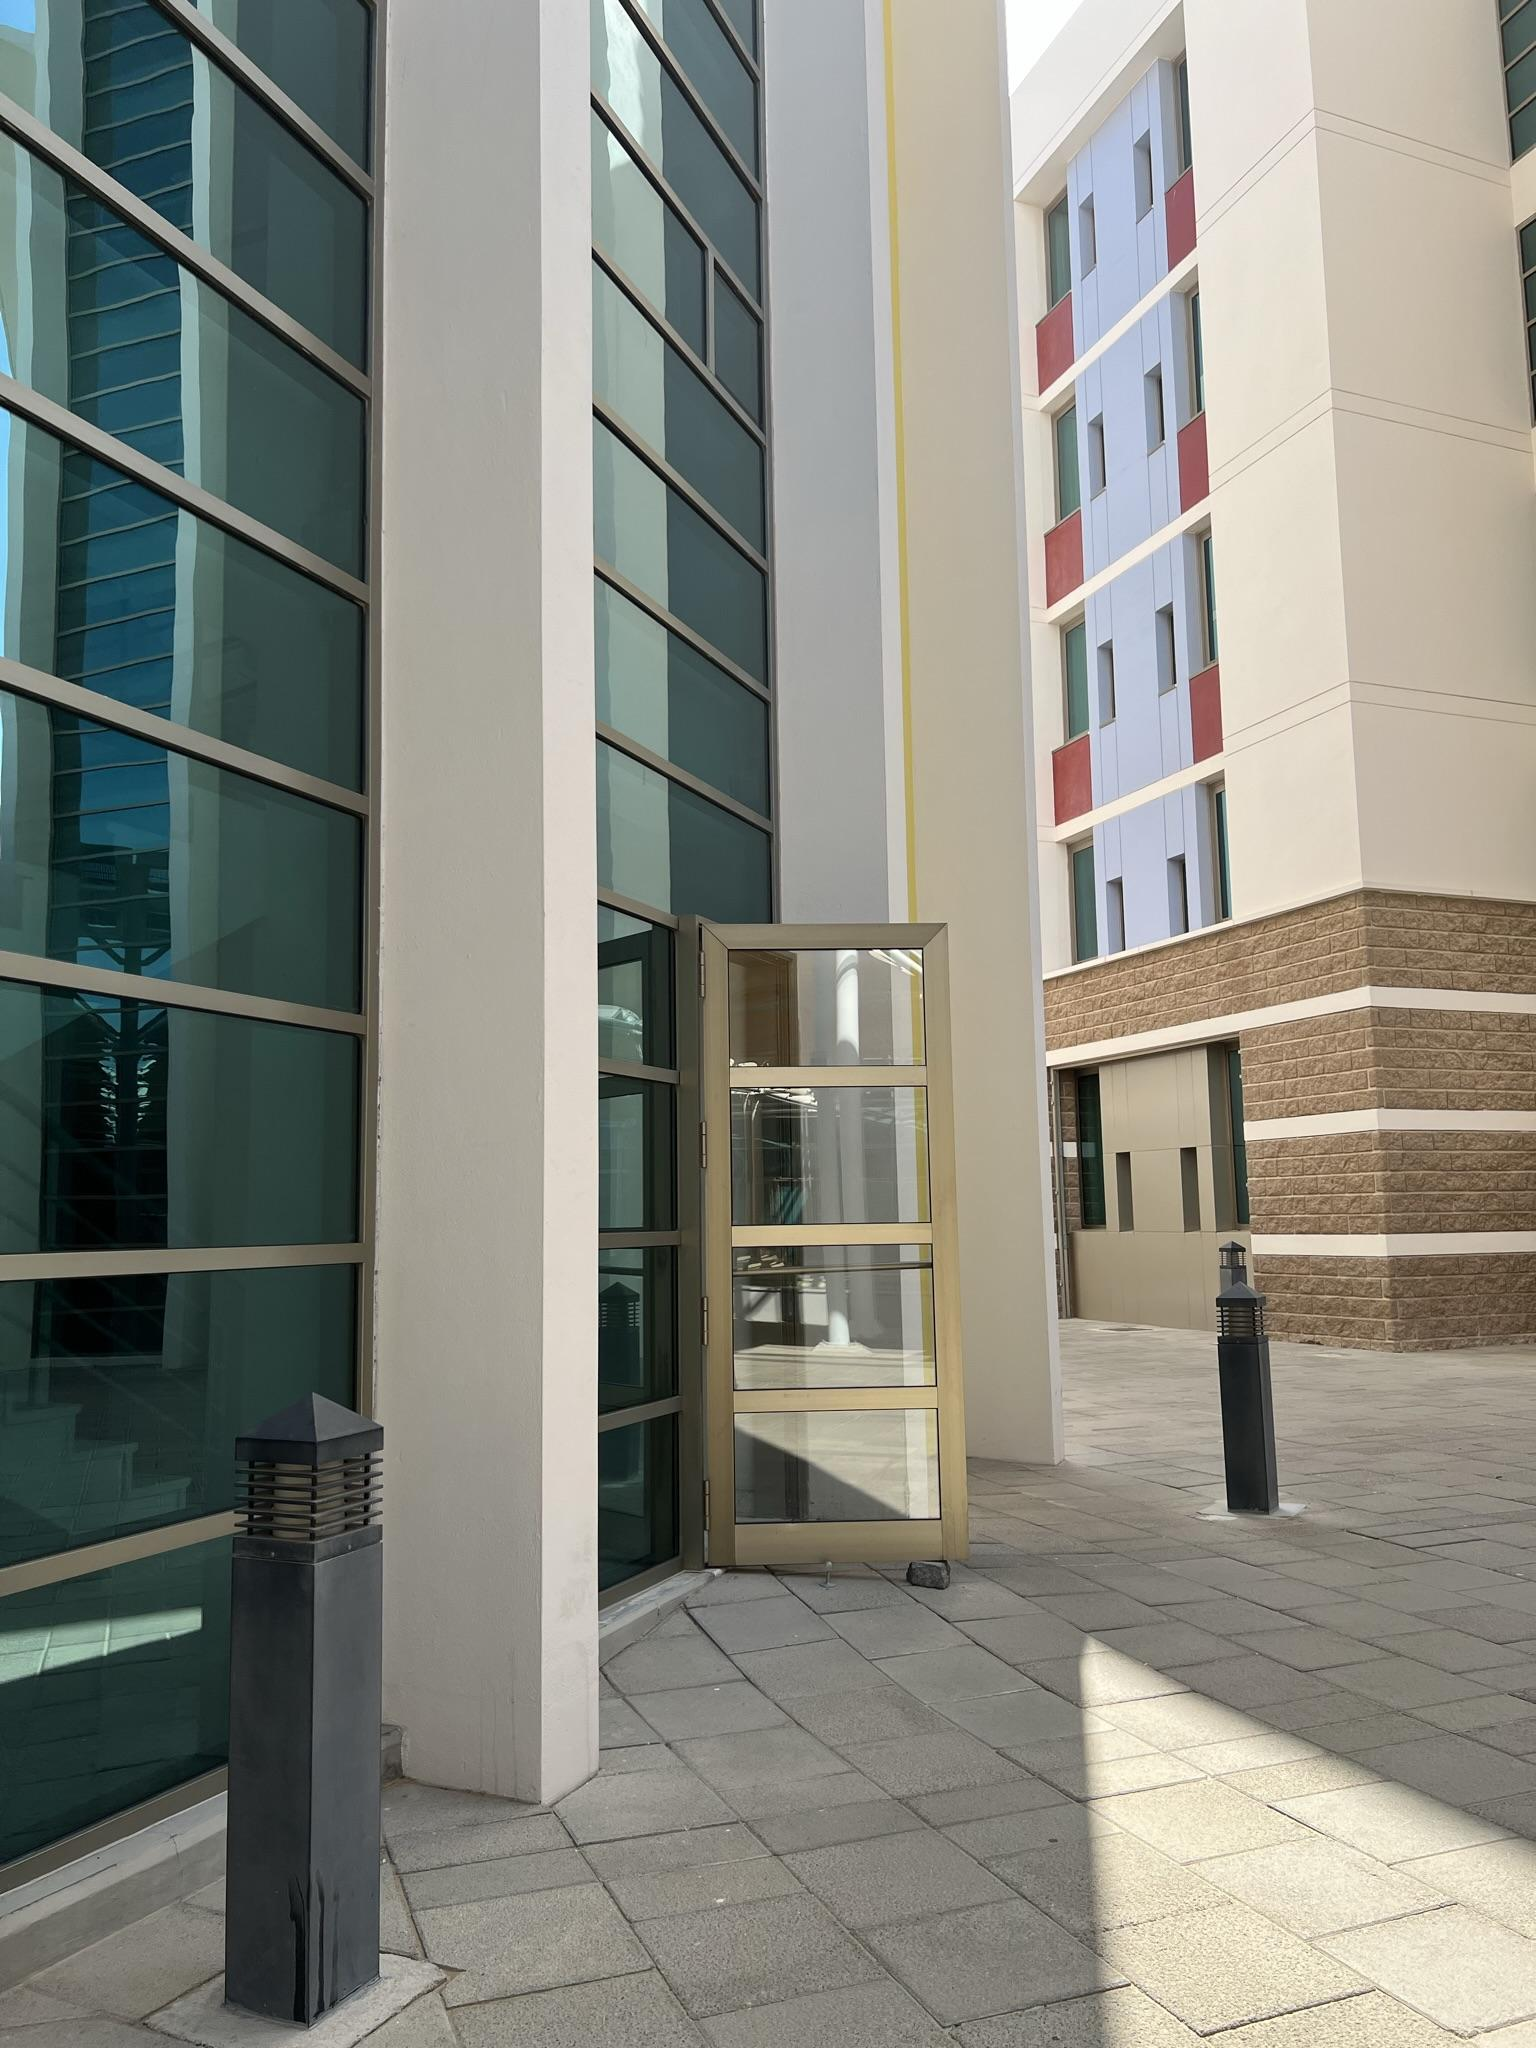door: (707, 921, 954, 1587)
